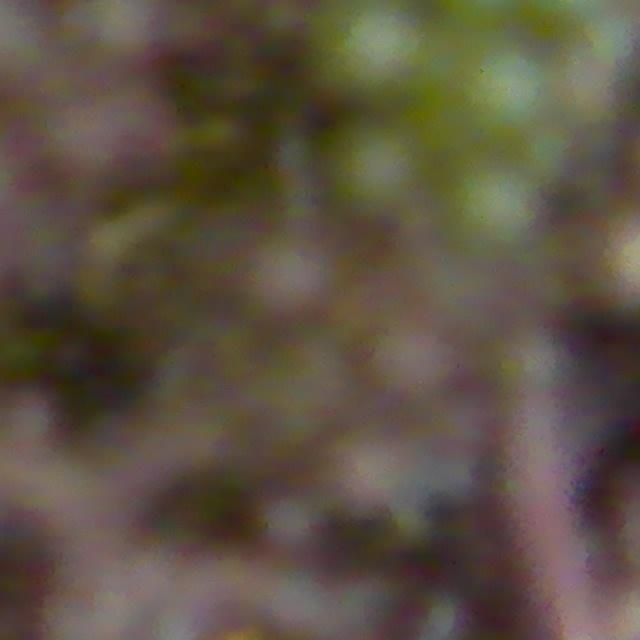SeaGrape: (304, 0, 423, 101), (451, 41, 542, 141), (572, 201, 640, 314), (327, 121, 413, 205), (245, 237, 332, 320), (451, 168, 534, 244)
